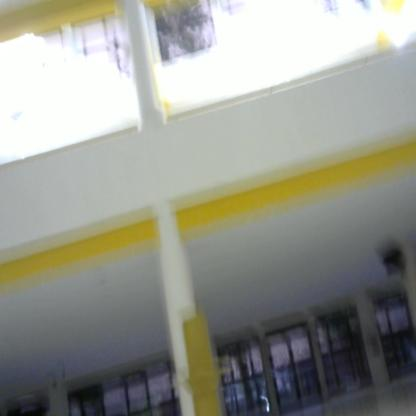pole: (176, 307, 235, 416)
